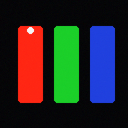0 point: (27, 27, 33, 33)
